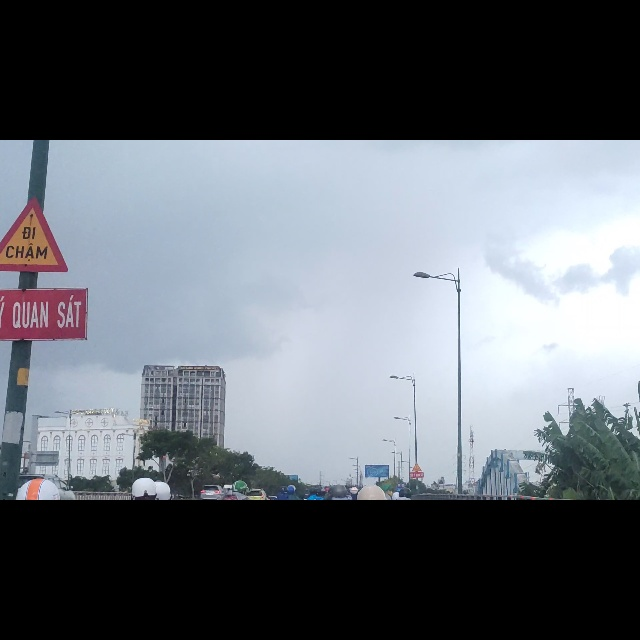bien_chi_dan: (0, 101, 69, 235), (412, 573, 422, 590)
